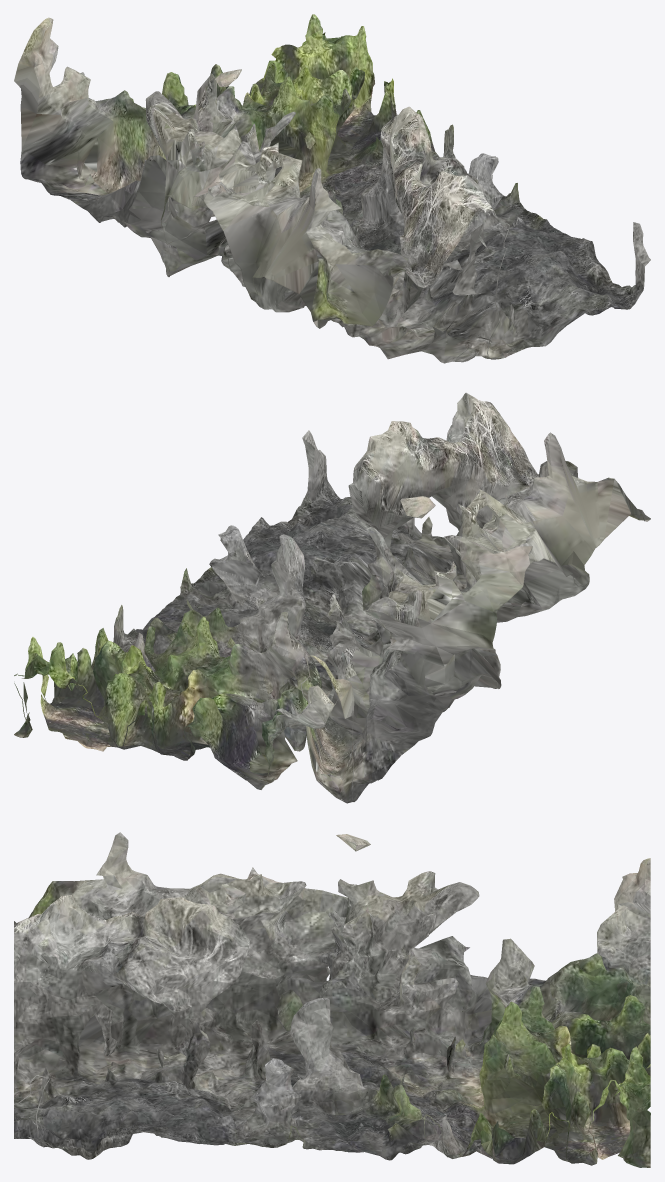
The model's file is Block_L19_158.glb.
3 views of the same model, one above another, from view 1: azimuth 30°, elevation 25°; view 2: azimuth 150°, elevation 25°; view 3: azimuth 270°, elevation 25° (orthographic). The views are drawn at different scales.
Visible parts, largest first — view 1: rtc; view 2: rtc; view 3: rtc.
Part boxes in pixels (box(x1,y1,x2,y2)): rtc: box(14, 14, 650, 363); rtc: box(14, 392, 650, 803); rtc: box(14, 832, 650, 1167).
Size of the model in its own units: 22.09 by 12.61 by 35.29.
Materials: 2 (2 with a texture image).
